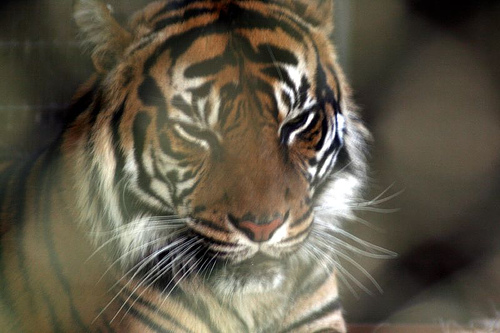Tigre: (68, 3, 408, 273)
